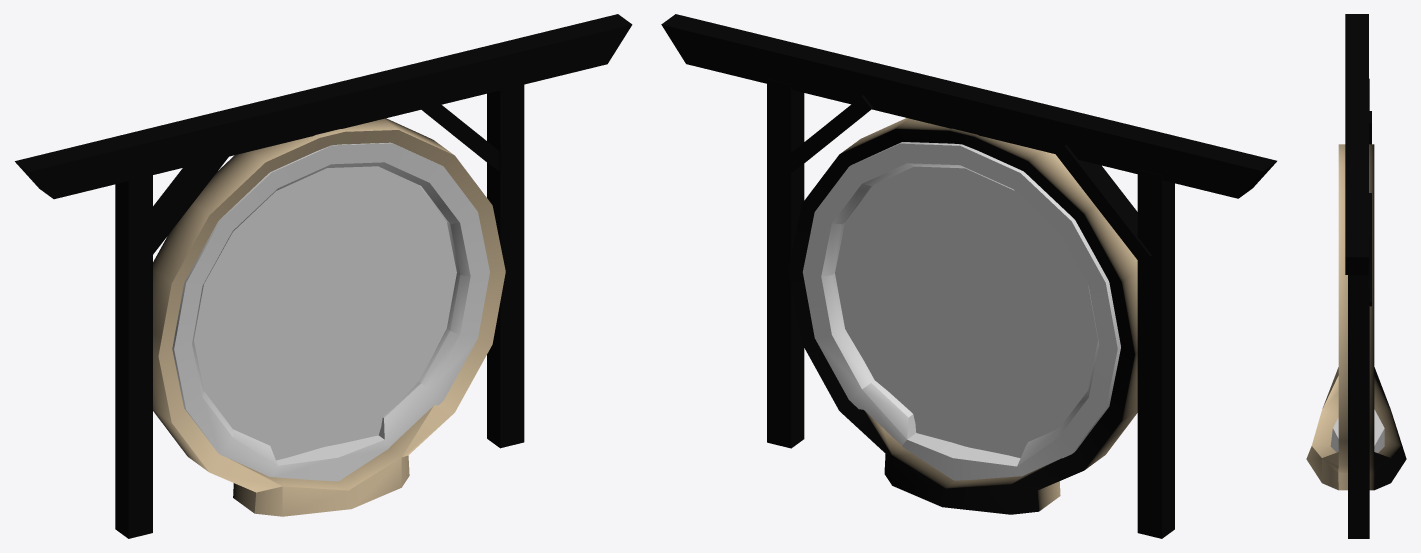
Rendered from hek portal.fbx.
The picture shows the model from 3 angles, left to right: view 1: azimuth 30°, elevation 25°; view 2: azimuth 150°, elevation 25°; view 3: azimuth 270°, elevation 25°; orthographic projection. The views are drawn at different scales.
Parts seen in each view (by area): view 1: WoodFrame, portal, ring binnen; view 2: WoodFrame, portal, ring binnen; view 3: WoodFrame, ring binnen.
Boxes of the visible parts, x1,y1,x2,y2 form: WoodFrame: [15, 14, 632, 538]; portal: [194, 166, 456, 460]; ring binnen: [172, 142, 489, 481]; WoodFrame: [661, 14, 1276, 538]; portal: [835, 166, 1097, 458]; ring binnen: [802, 142, 1120, 480]; WoodFrame: [1306, 14, 1406, 538]; ring binnen: [1330, 409, 1384, 452].
Size of the model in its own units: 487 by 303 by 84.86.
